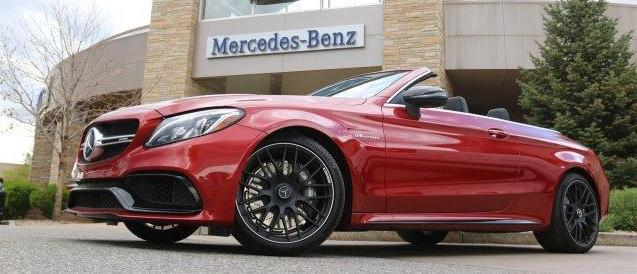C63AMG: (64, 65, 610, 251)
